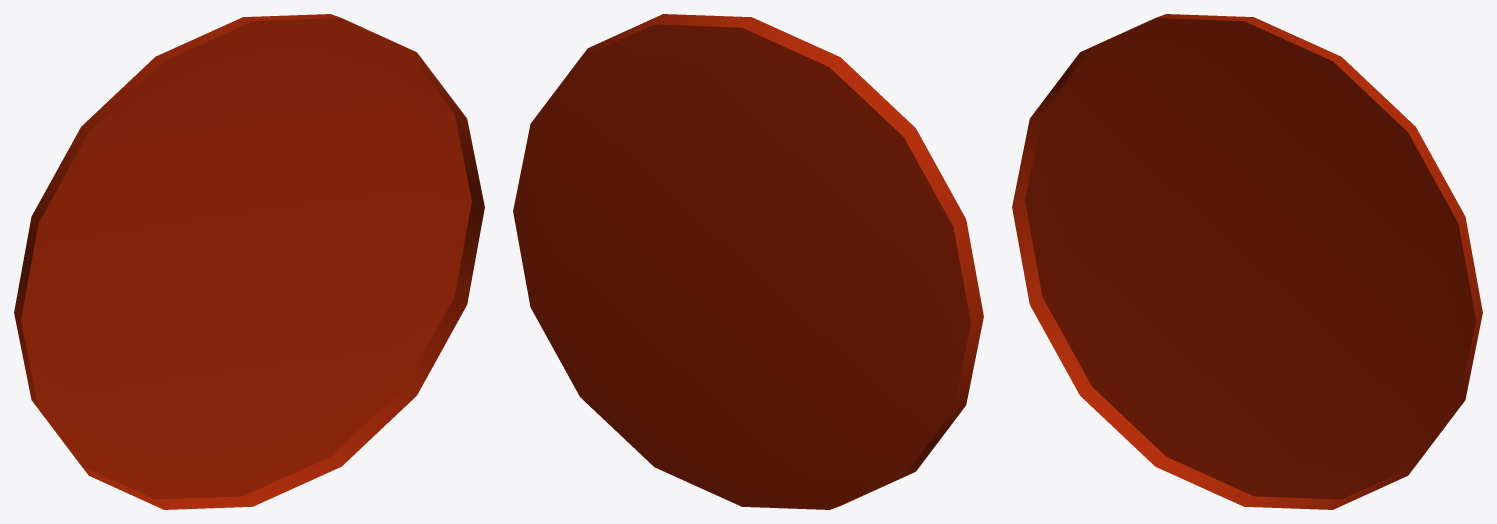
Rendered from sCap_04_LOD0.FBX.
The picture shows the model from 3 angles, left to right: view 1: azimuth 30°, elevation 25°; view 2: azimuth 150°, elevation 25°; view 3: azimuth 330°, elevation 25°; orthographic projection.
Visible parts, largest first — view 1: Caps_up1_004_LOD0; view 2: Caps_up1_004_LOD0; view 3: Caps_up1_004_LOD0.
Boxes of the visible parts, x1,y1,x2,y2 form: Caps_up1_004_LOD0: [14, 14, 484, 509]; Caps_up1_004_LOD0: [513, 14, 983, 509]; Caps_up1_004_LOD0: [1012, 14, 1482, 509].
Bounding box in the file's own units: 19 × 19 × 0.8269.
